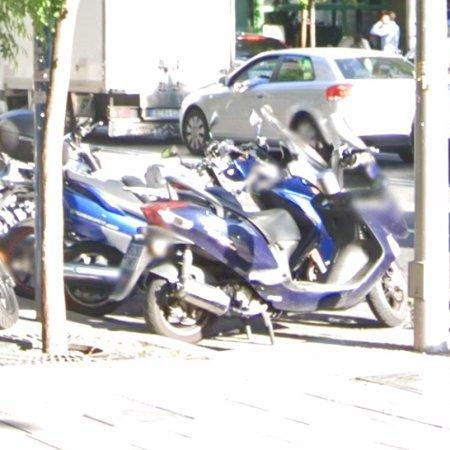motorcycles: (110, 152, 408, 343), (64, 148, 245, 316)
